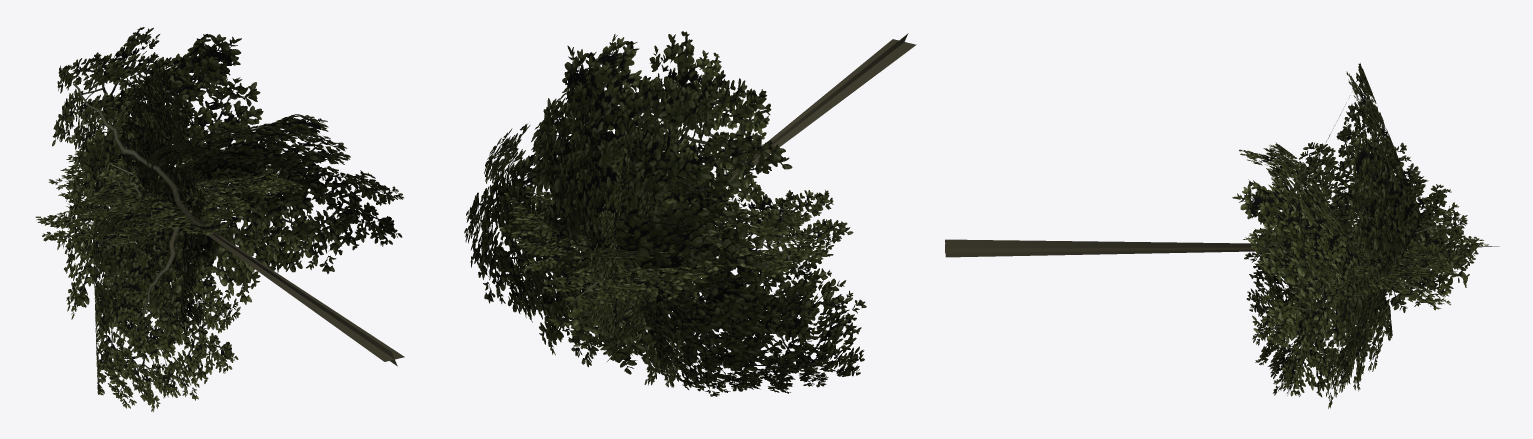
File: Tree_02_j_LOD_01.fbx
3 renders of one model, left to right at view 1: azimuth 30°, elevation 25°; view 2: azimuth 150°, elevation 25°; view 3: azimuth 270°, elevation 25°, orthographic. The views are drawn at different scales.
Visible parts, largest first — view 1: MEP_Leafs_02_j_LOD_01; view 2: MEP_Leafs_02_j_LOD_01; view 3: MEP_Leafs_02_j_LOD_01.
Boxes of the visible parts, bbox=[...] form: MEP_Leafs_02_j_LOD_01: bbox=[35, 27, 404, 412]; MEP_Leafs_02_j_LOD_01: bbox=[464, 31, 916, 396]; MEP_Leafs_02_j_LOD_01: bbox=[945, 63, 1499, 408].
Size of the model in its own units: 24.8 by 22.78 by 35.21.
